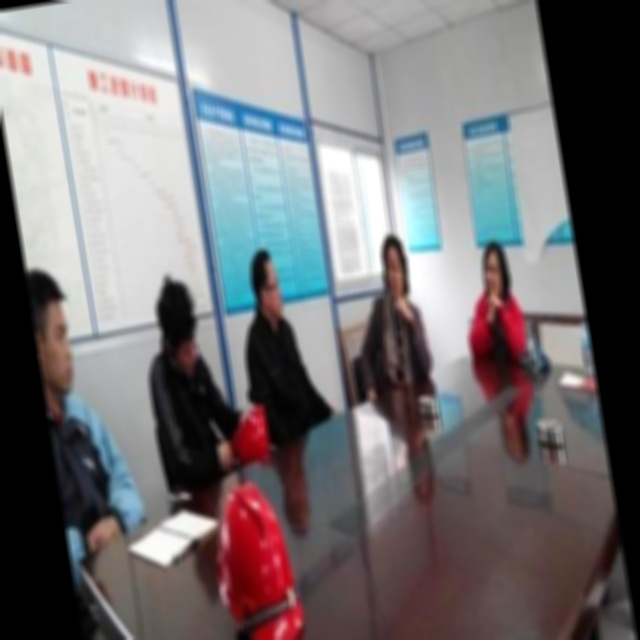Sin_Casco_Mascarrilla: (247, 246, 288, 325), (375, 234, 412, 301)
